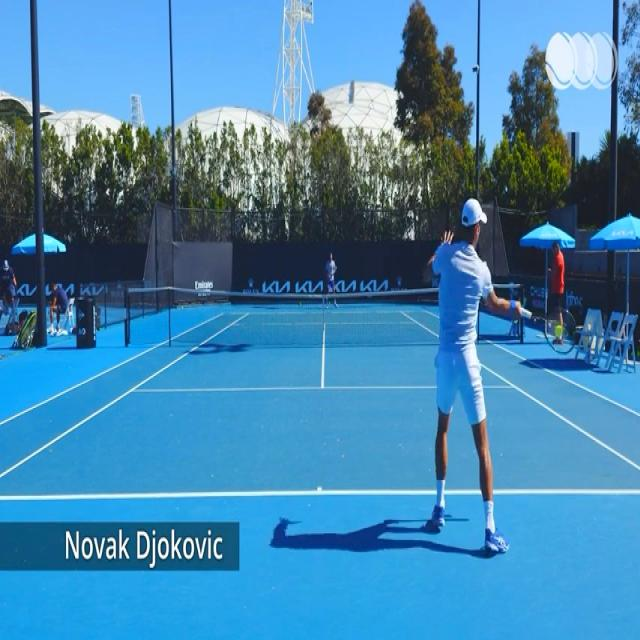forehand-stroke: (427, 198, 579, 552)
